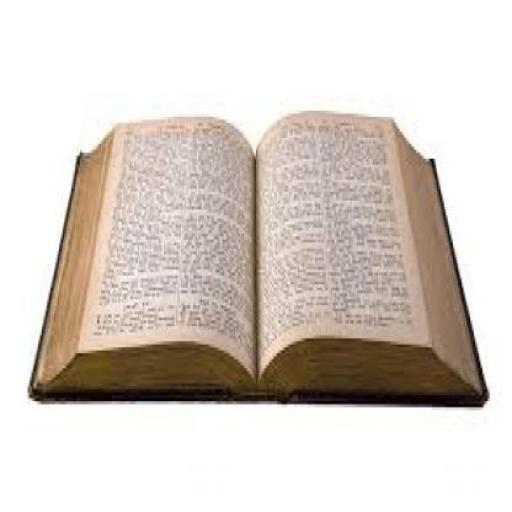paper: (26, 111, 487, 407), (252, 108, 432, 390), (76, 117, 252, 380)
